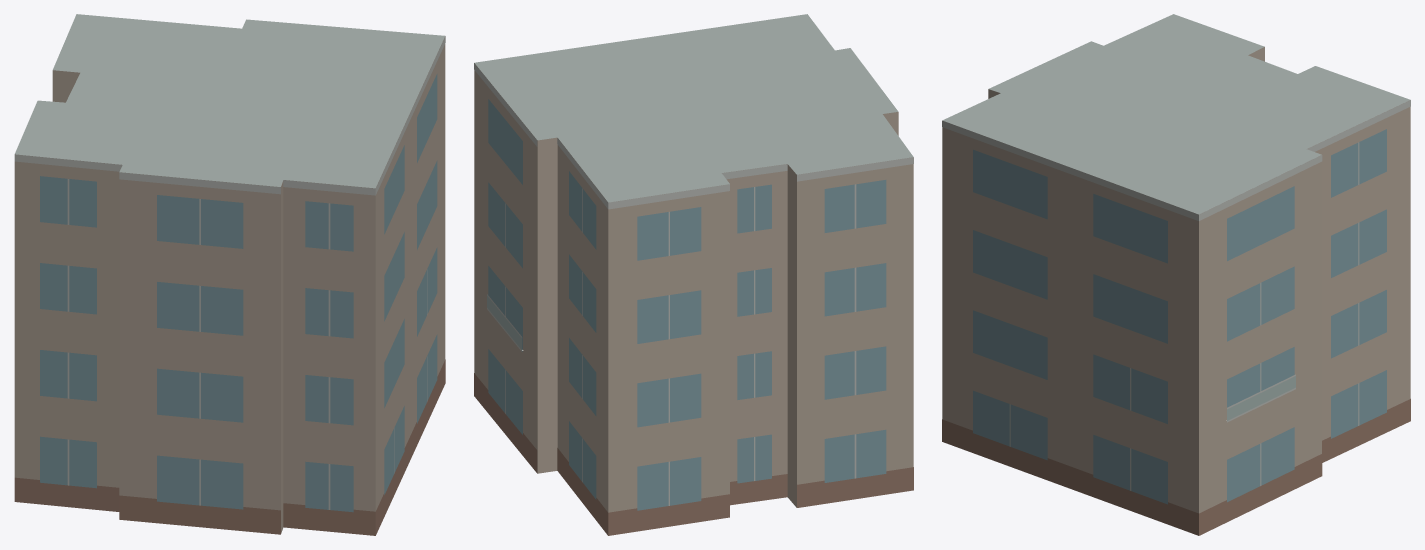
File: survey-upis-33010553.glb
3 renders of one model, left to right at view 1: azimuth 30°, elevation 25°; view 2: azimuth 150°, elevation 25°; view 3: azimuth 270°, elevation 25°, orthographic. The views are drawn at different scales.
Visible parts, largest first — view 1: survey-upis-33010553.tmp; view 2: survey-upis-33010553.tmp; view 3: survey-upis-33010553.tmp.
Boxes of the visible parts, <box> form: survey-upis-33010553.tmp: <box>14,14,445,535</box>; survey-upis-33010553.tmp: <box>474,14,913,535</box>; survey-upis-33010553.tmp: <box>942,14,1410,535</box>.
Bounding box in the file's own units: 15.81 × 11.8 × 15.61.
